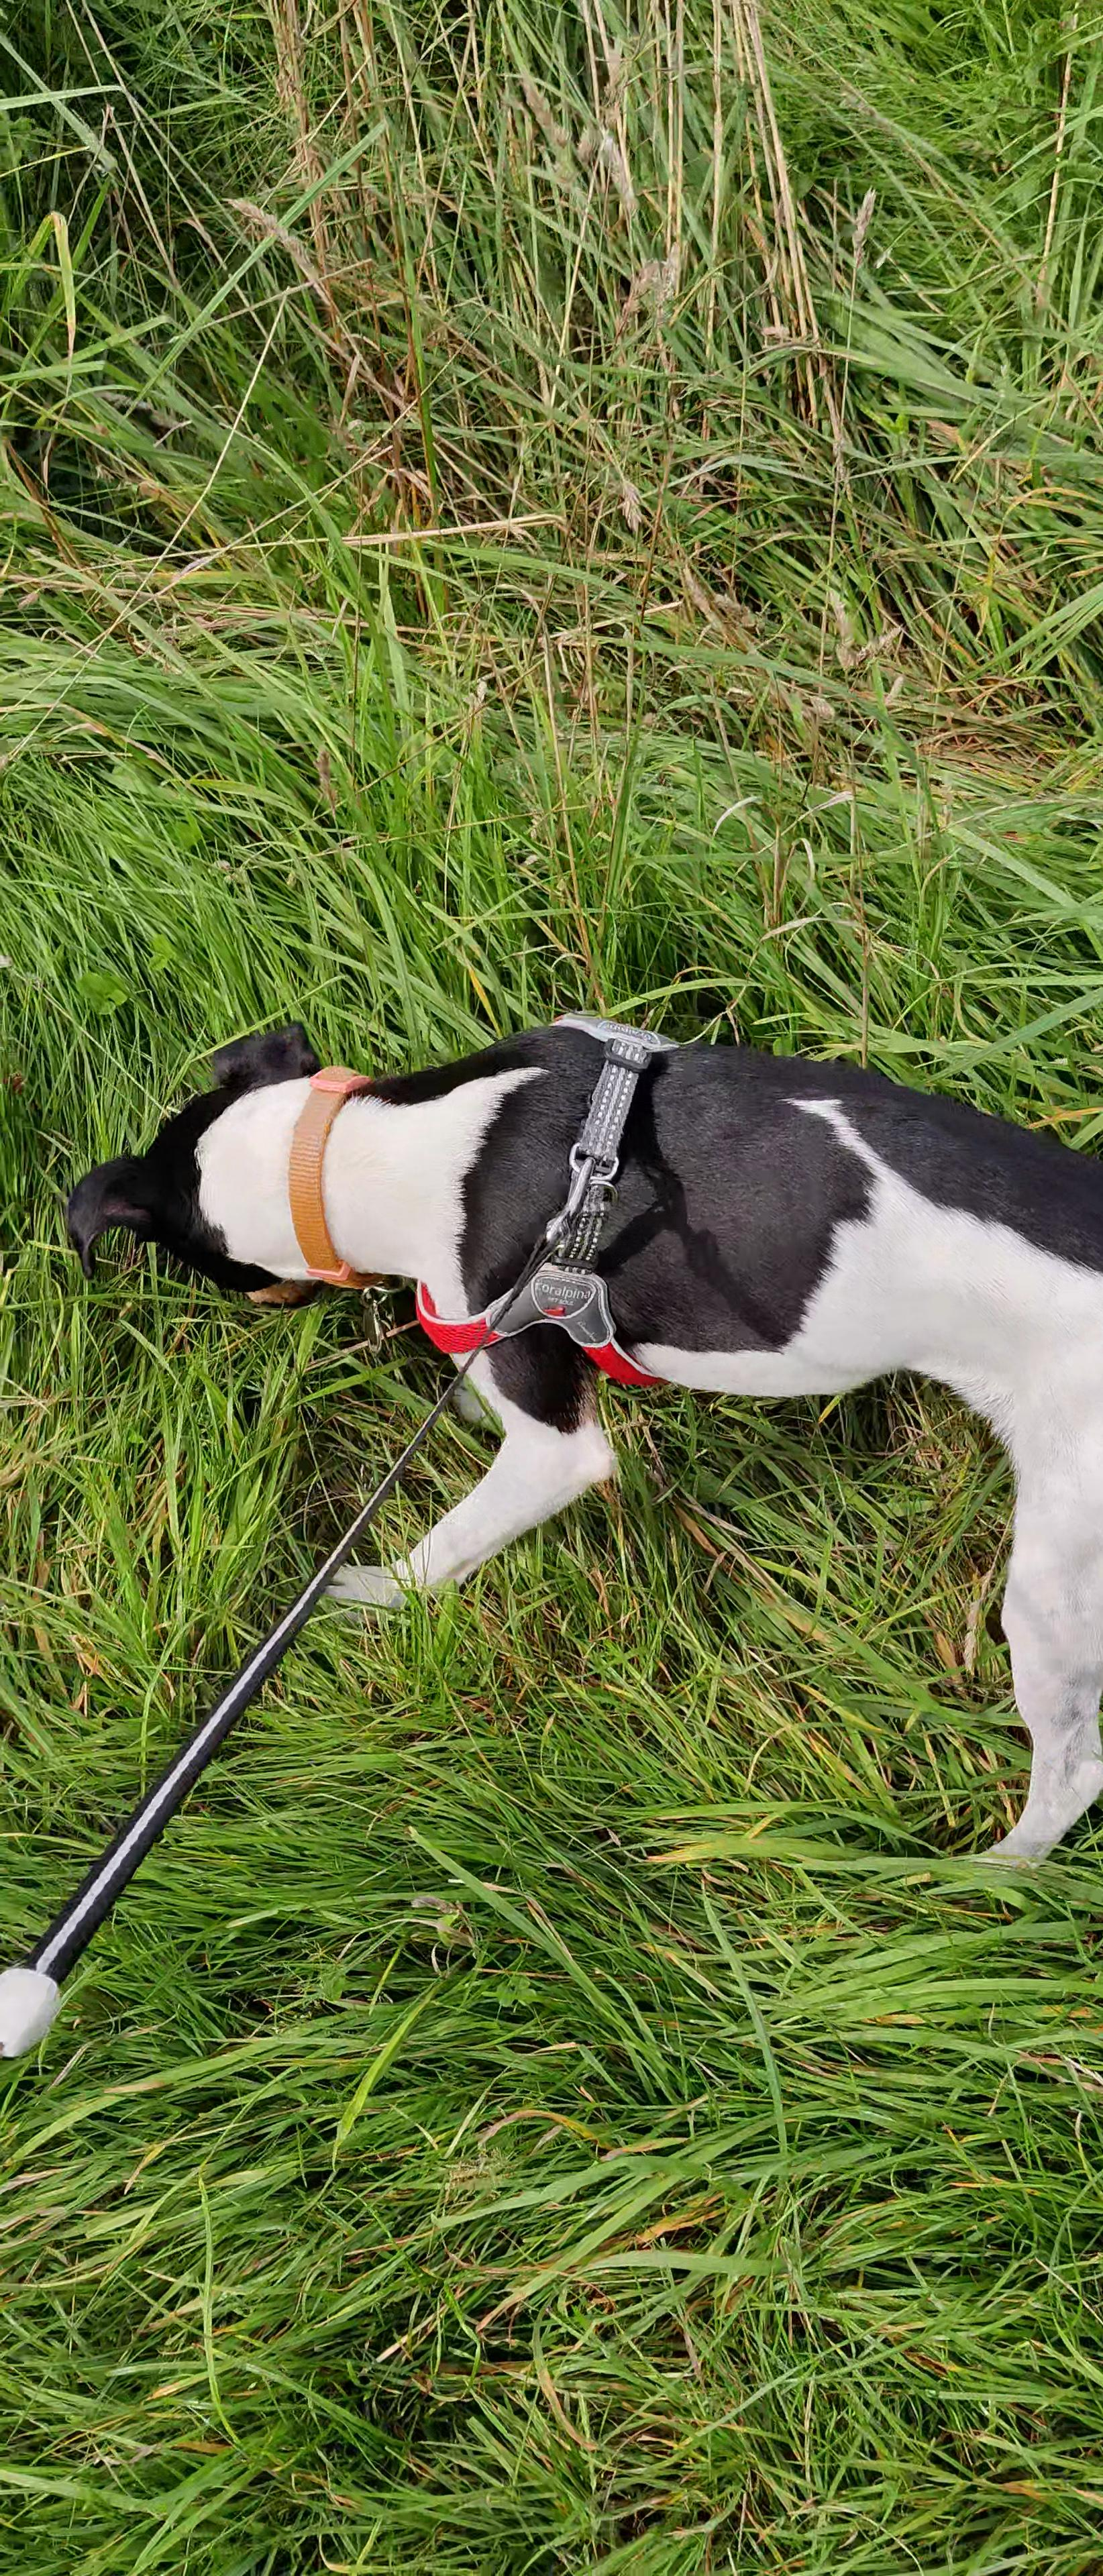Dog: (43, 961, 1103, 1899)
